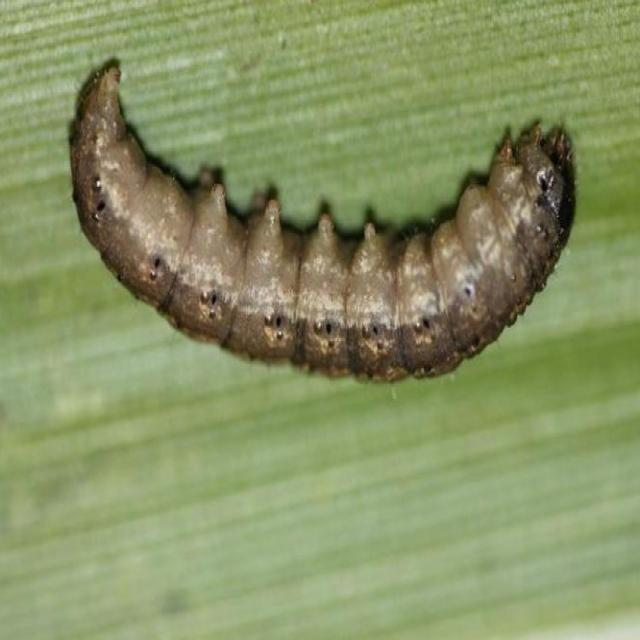black cutworm: (71, 57, 577, 395)
